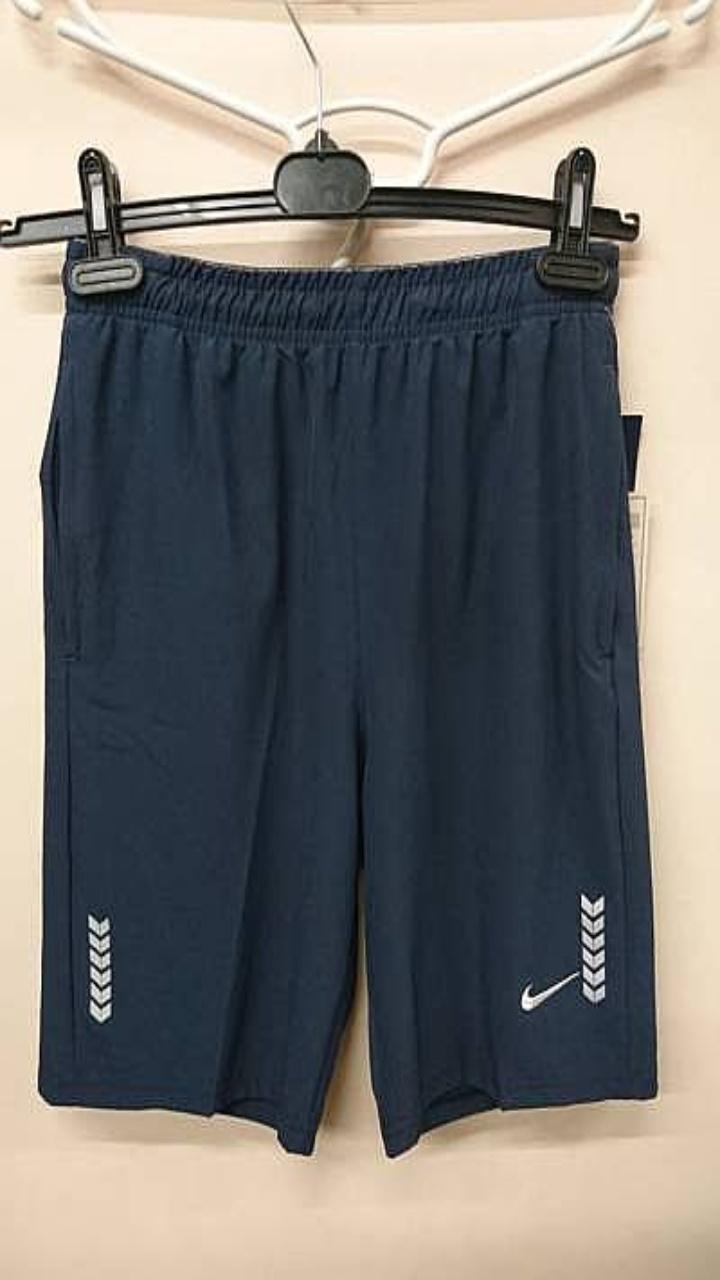Shorts: (38, 239, 656, 1155)
